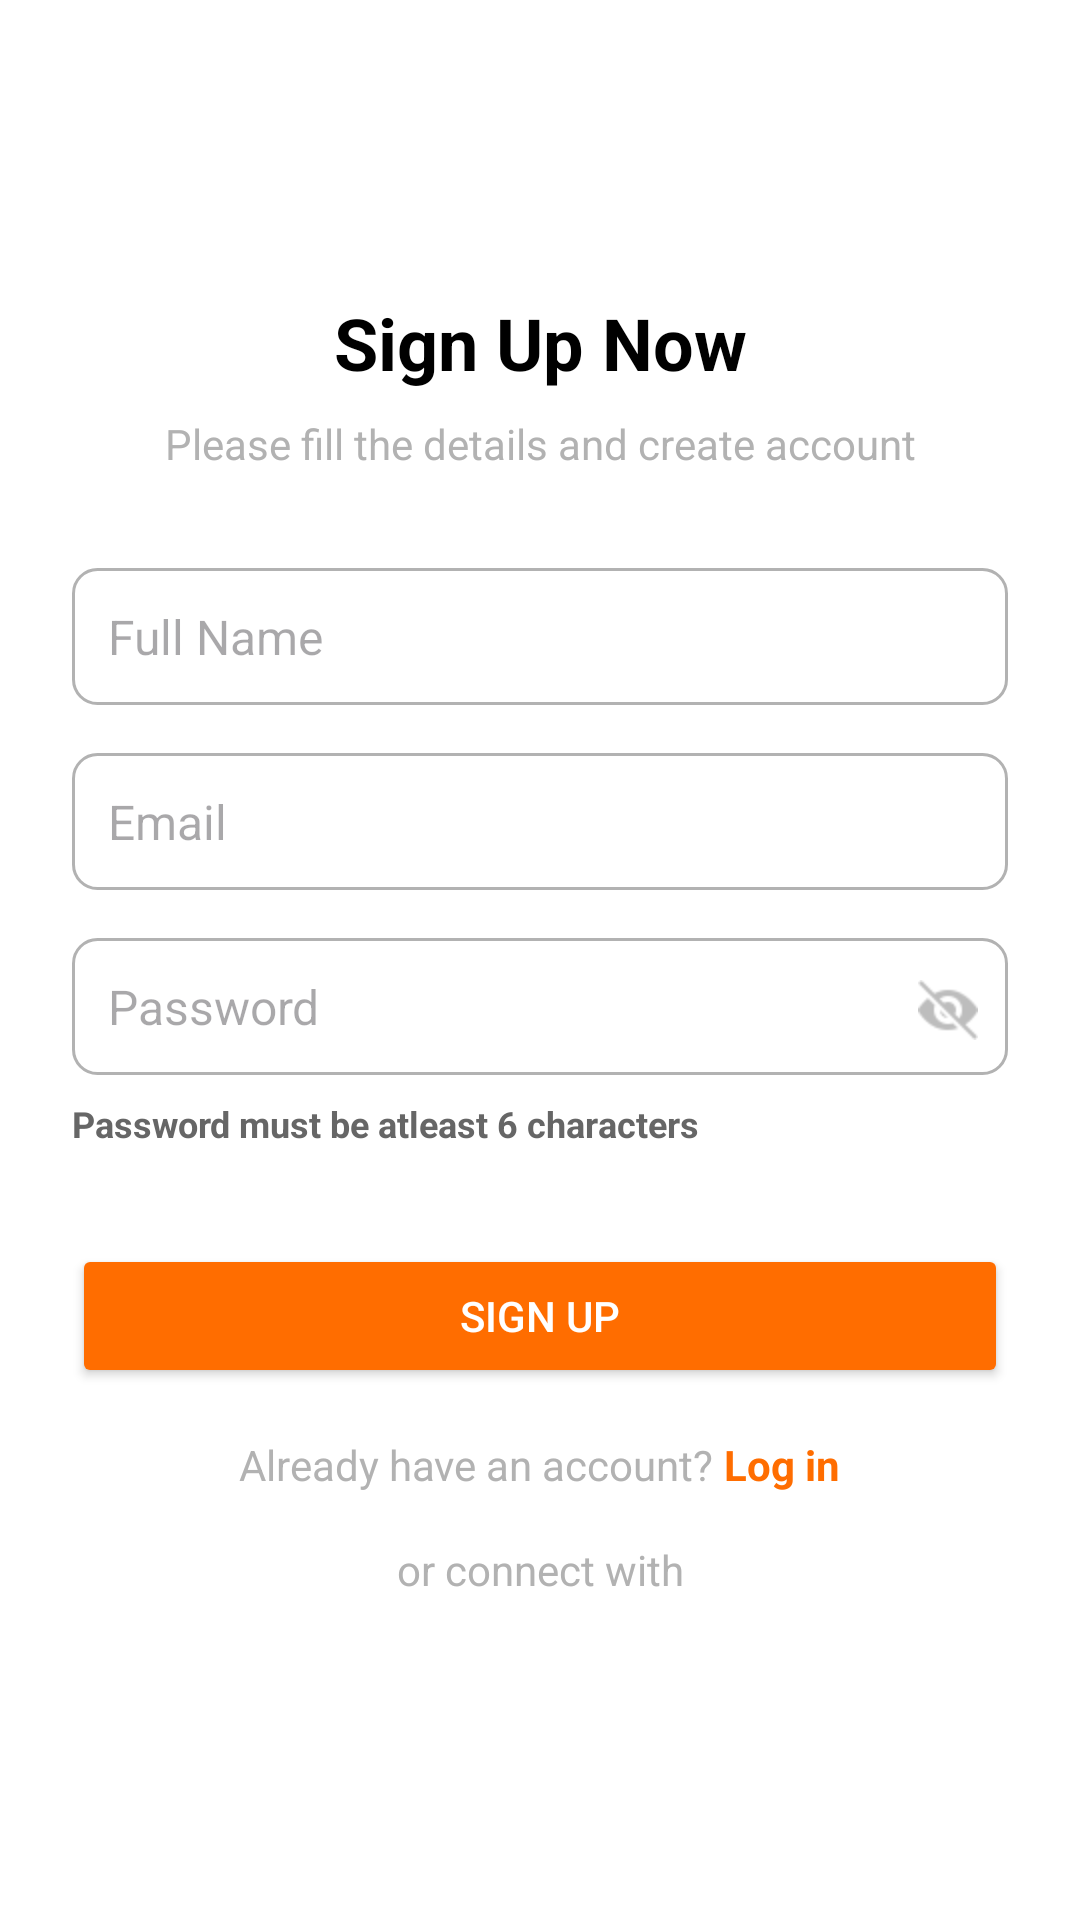

Icons on this 1080px x 1920px Android screen, each with the point to tap as (x,y):
hide: (948,1010)
